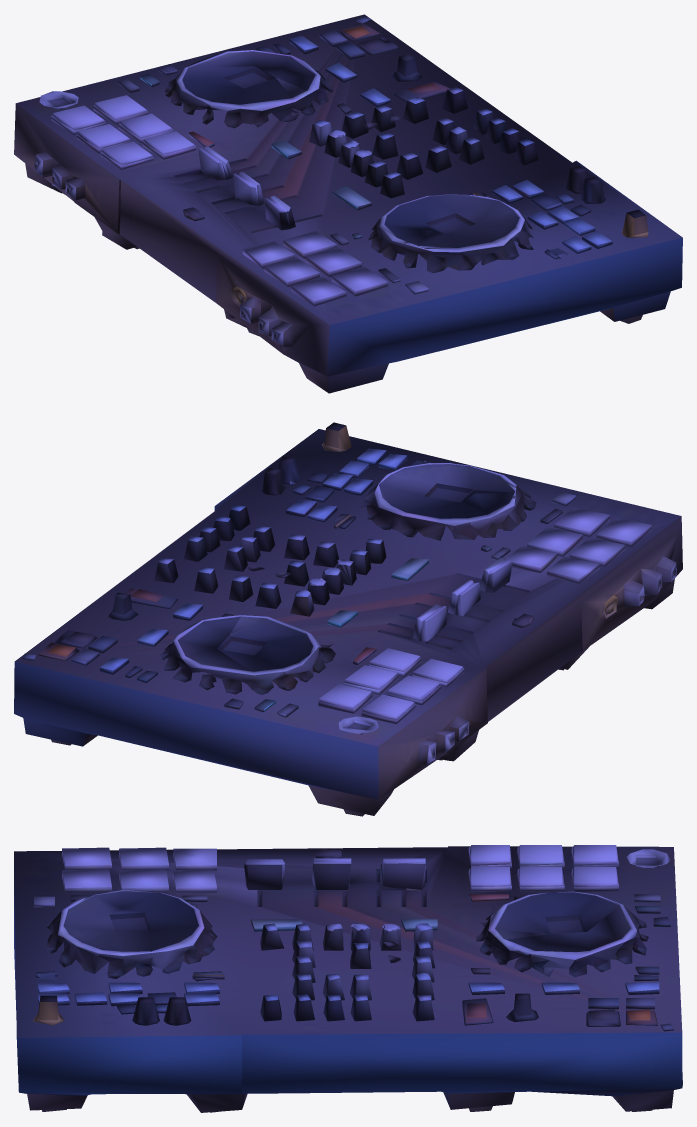
The model's file is model.progressive.glb.
3 views of the same model, one above another, from view 1: azimuth 30°, elevation 25°; view 2: azimuth 150°, elevation 25°; view 3: azimuth 270°, elevation 25° (orthographic). The views are drawn at different scales.
Parts seen in each view (by area): view 1: material; view 2: material; view 3: material.
Part boxes in pixels (x1,y1,x2,y2): material: (14,14,682,393); material: (14,422,682,816); material: (14,845,682,1112).
Bounding box in the file's own units: 1.33 × 0.3535 × 1.88.
1 material, 1 textured.
